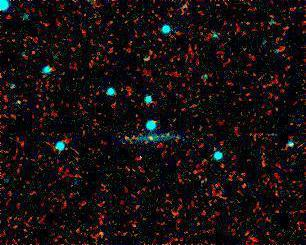star: (85, 224, 115, 245)
